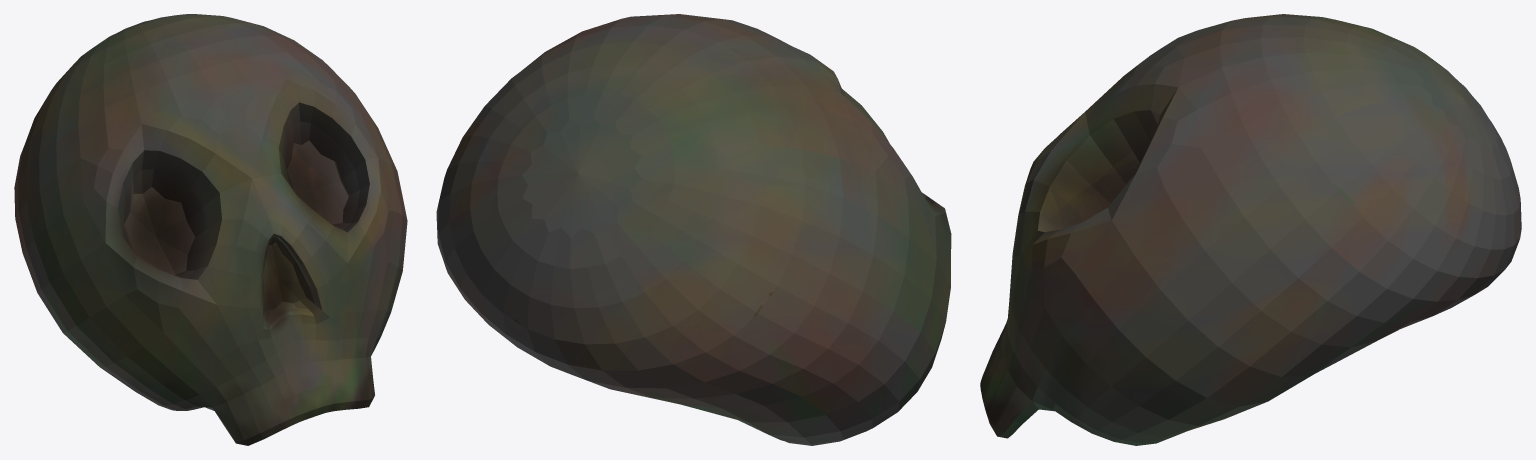
The model's file is iskelet 1.fbx.
3 views of the same model, side by side, from view 1: azimuth 30°, elevation 25°; view 2: azimuth 150°, elevation 25°; view 3: azimuth 270°, elevation 25° (orthographic). The views are drawn at different scales.
Parts seen in each view (by area): view 1: Sphere.001; view 2: Sphere.001; view 3: Sphere.001.
Part boxes in pixels (bbox=[...]): Sphere.001: bbox=[14, 14, 407, 445]; Sphere.001: bbox=[436, 14, 951, 445]; Sphere.001: bbox=[980, 14, 1521, 445].
Bounding box in the file's own units: 198 × 183 × 228.
1 material, 1 textured.
